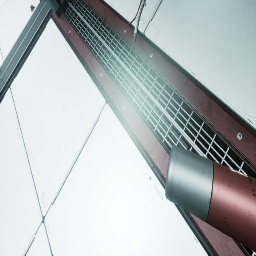NitrogenTank ,: (165, 144, 256, 252)
